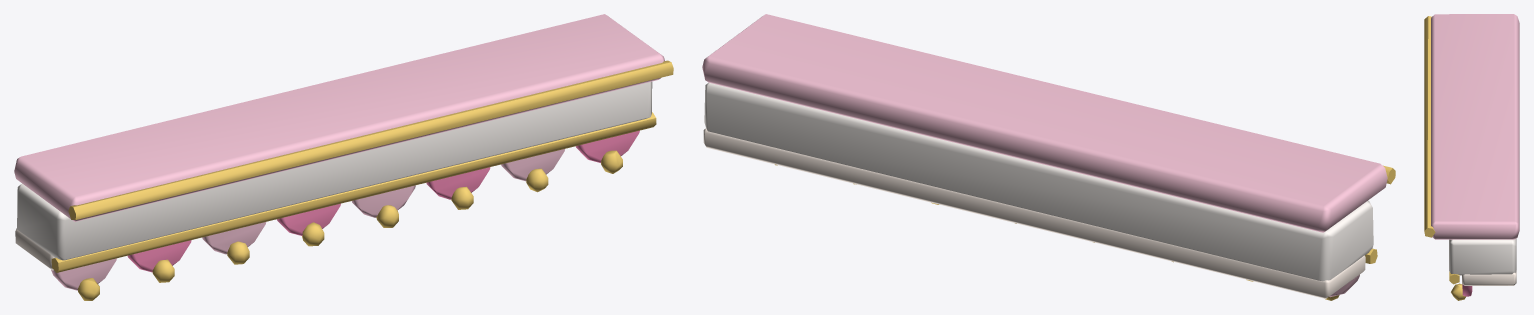
File: cornice_scallop.glb
3 renders of one model, left to right at view 1: azimuth 30°, elevation 25°; view 2: azimuth 150°, elevation 25°; view 3: azimuth 270°, elevation 25°, orthographic. The views are drawn at different scales.
Parts seen in each view (by area): view 1: cornice_scallop; view 2: cornice_scallop; view 3: cornice_scallop.
Part boxes in pixels (x1,y1,x2,y2): cornice_scallop: (14,14,673,300); cornice_scallop: (702,14,1395,300); cornice_scallop: (1424,14,1519,300).
Bounding box in the file's own units: 4 × 0.7937 × 0.761.
